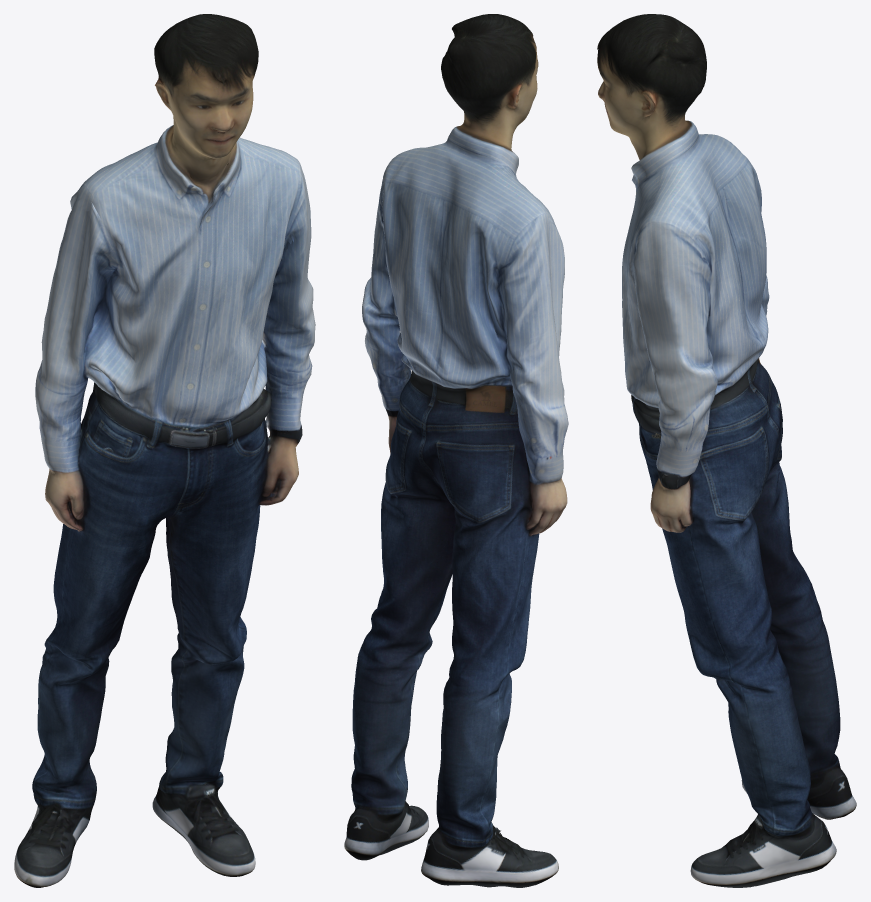
File: model_low_texture.glb
3 views of the same model, side by side, from view 1: azimuth 30°, elevation 25°; view 2: azimuth 150°, elevation 25°; view 3: azimuth 270°, elevation 25° (orthographic). The views are drawn at different scales.
Visible parts, largest first — view 1: model_0; view 2: model_0; view 3: model_0.
Boxes of the visible parts, box(x1,y1,x2,y2) form: model_0: box(14, 14, 315, 887); model_0: box(344, 14, 568, 887); model_0: box(597, 14, 856, 887).
Bounding box in the file's own units: 4.26 × 14.55 × 4.07.
1 material, 1 textured.
